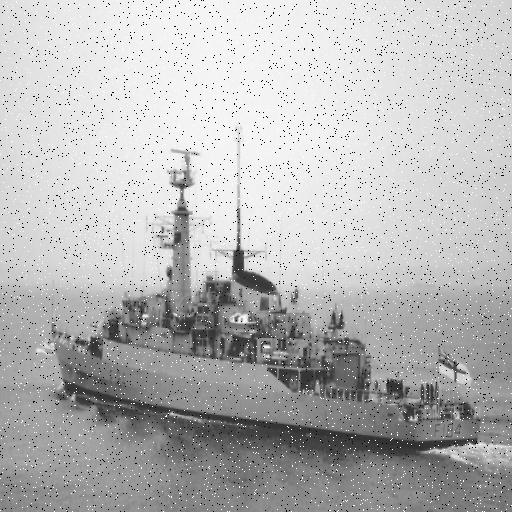Fragata: (52, 140, 478, 457)
